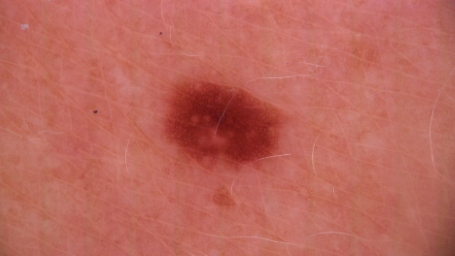melanoma: (167, 81, 279, 164)
